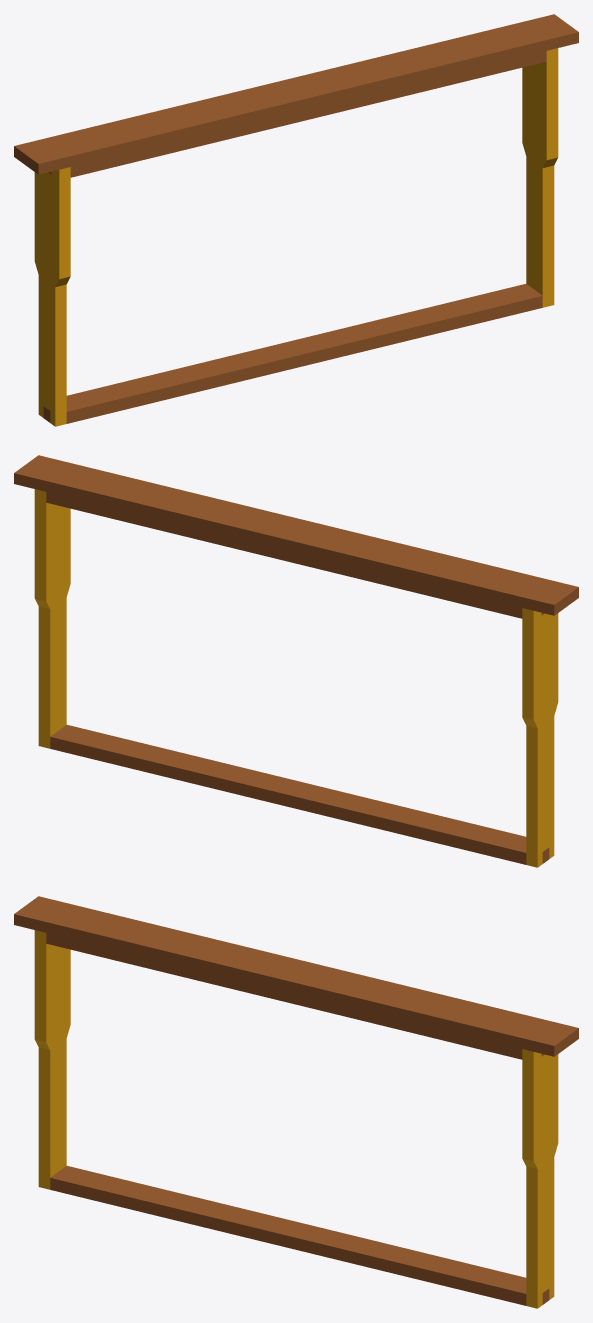
The model's file is BeeBoxFrame.fbx.
The picture shows the model from 3 angles, top to bottom: view 1: azimuth 30°, elevation 25°; view 2: azimuth 150°, elevation 25°; view 3: azimuth 330°, elevation 25°; orthographic projection.
Parts seen in each view (by area): view 1: BeeBoxFrame; view 2: BeeBoxFrame; view 3: BeeBoxFrame.
Part boxes in pixels (x1,y1,x2,y2): BeeBoxFrame: (14,14,578,426); BeeBoxFrame: (14,455,578,867); BeeBoxFrame: (14,896,578,1308).
Bounding box in the file's own units: 305 × 146 × 24.05.
